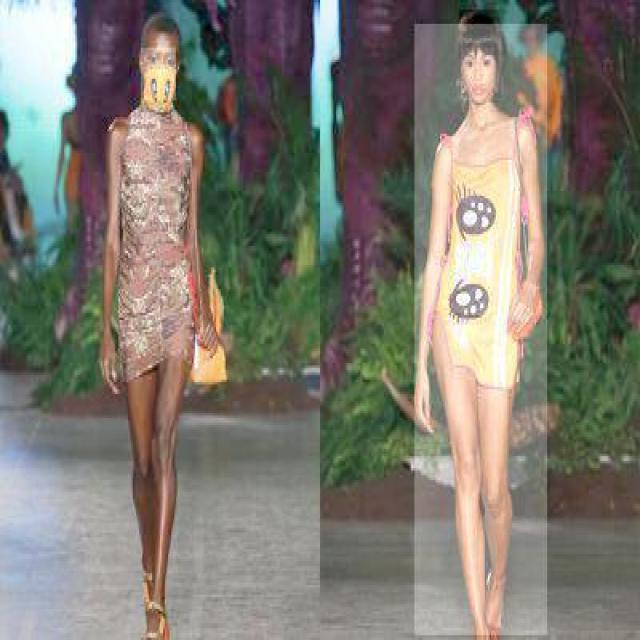face_mask: (140, 48, 178, 102)
face_nomask: (461, 48, 496, 102)
hand_noglove: (94, 327, 124, 394), (506, 280, 540, 336), (194, 304, 225, 357), (409, 368, 434, 430)
head_nohelmet: (459, 9, 507, 55), (141, 12, 179, 52)
person: (414, 24, 549, 637), (98, 10, 220, 638)
